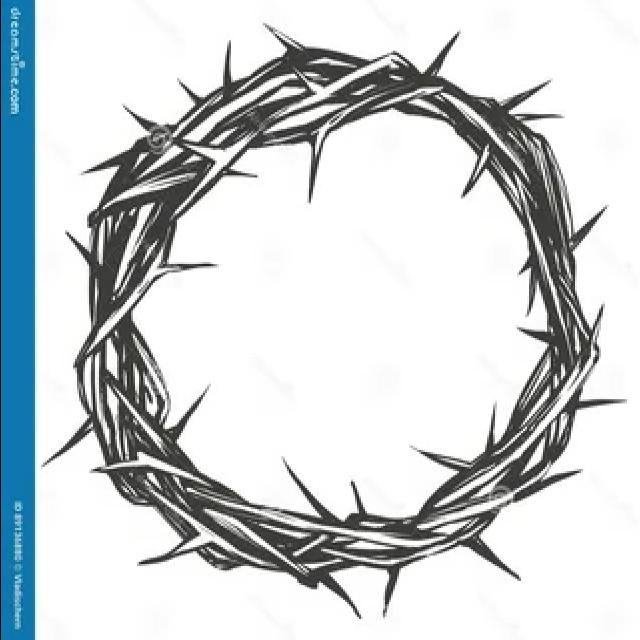crown: (71, 48, 609, 590)
